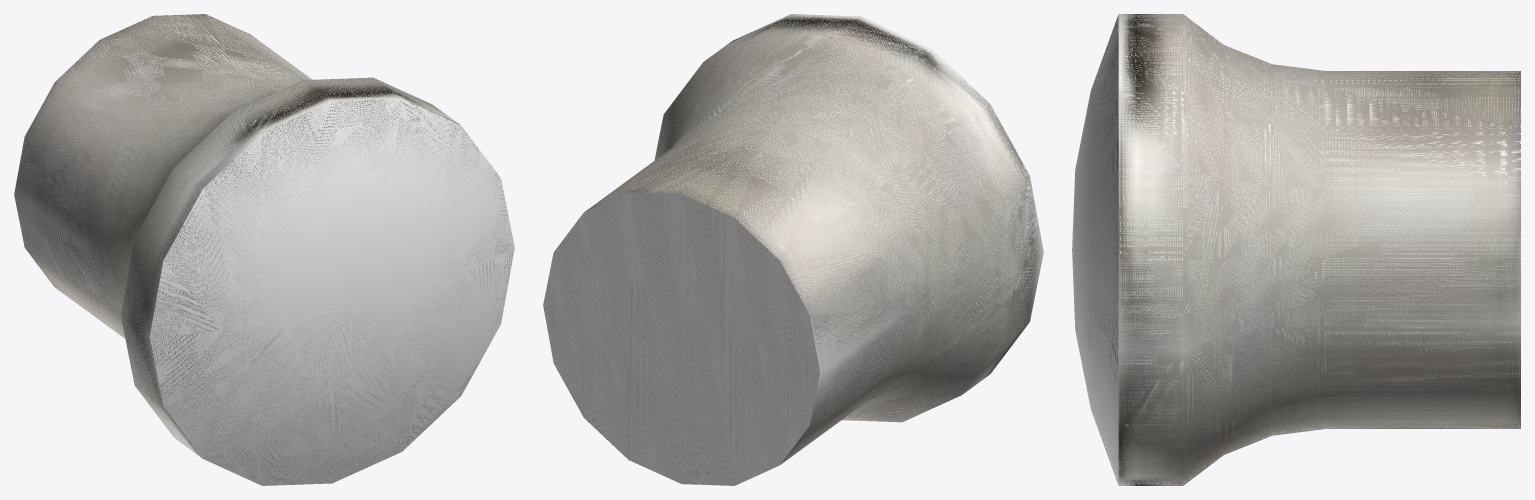
Rendered from original-44.obj.
3 renders of one model, left to right at view 1: azimuth 30°, elevation 25°; view 2: azimuth 150°, elevation 25°; view 3: azimuth 270°, elevation 25°, orthographic. The views are drawn at different scales.
Parts seen in each view (by area): view 1: HK137_LT1/HK137_LT/mesh31/mesh31-geometry#mesh31-geometry; view 2: HK137_LT1/HK137_LT/mesh31/mesh31-geometry#mesh31-geometry; view 3: HK137_LT1/HK137_LT/mesh31/mesh31-geometry#mesh31-geometry.
Boxes of the visible parts, bbox=[...] form: HK137_LT1/HK137_LT/mesh31/mesh31-geometry#mesh31-geometry: bbox=[14, 14, 514, 485]; HK137_LT1/HK137_LT/mesh31/mesh31-geometry#mesh31-geometry: bbox=[543, 14, 1043, 485]; HK137_LT1/HK137_LT/mesh31/mesh31-geometry#mesh31-geometry: bbox=[1072, 14, 1520, 485].
Size of the model in its own units: 0.0555 by 0.0555 by 0.0527.
